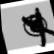not correct: (17, 4, 54, 50)
